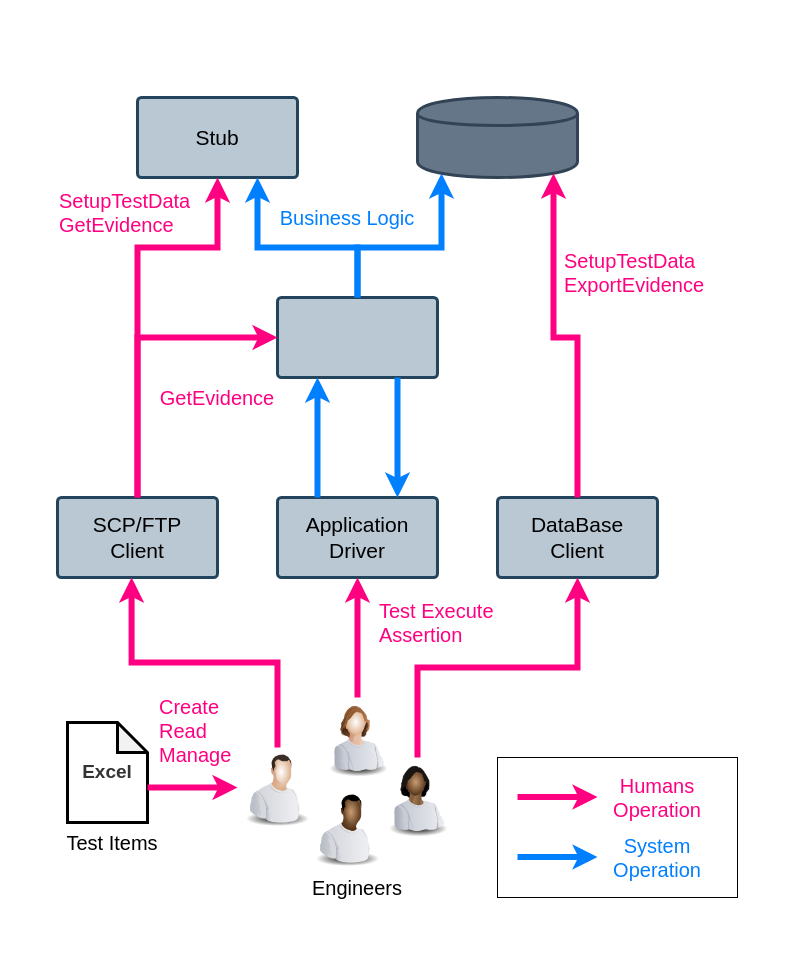
Image size: 794x954. Some labels were removed from this diagram. Here are the shapes that lost their labels. From the top down, the centre of each, then its label:
At pixel 497 137: "DataBase".
At pixel 357 337: "Target Application".
